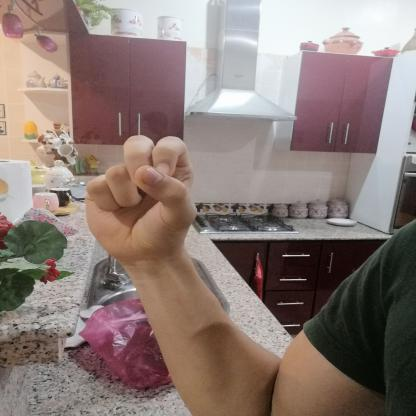QAAF: (73, 125, 217, 273)
